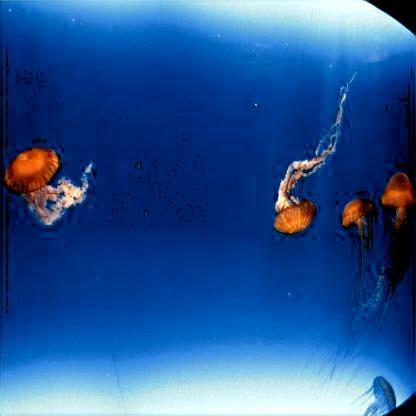Dressed: (275, 90, 351, 234), (2, 146, 90, 224), (376, 175, 414, 319), (342, 202, 372, 336), (367, 376, 396, 412)
